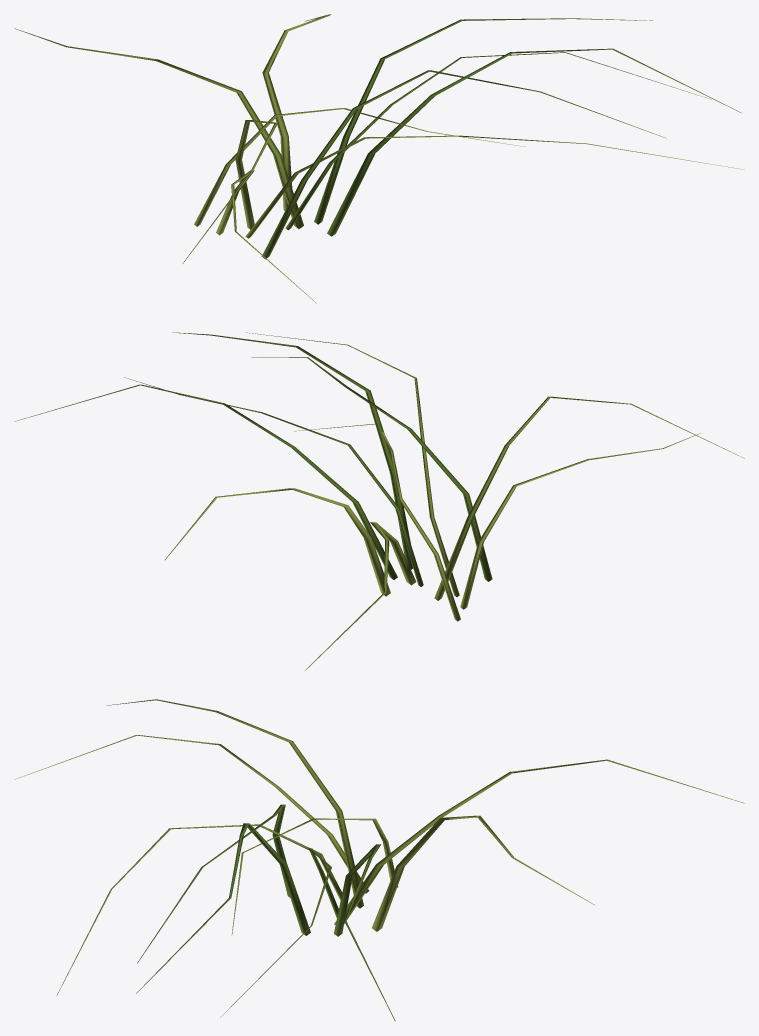
Rendered from filament-0-lod.glb.
3 views of the same model, one above another, from view 1: azimuth 30°, elevation 25°; view 2: azimuth 150°, elevation 25°; view 3: azimuth 270°, elevation 25° (orthographic). The views are drawn at different scales.
Visible parts, largest first — view 1: Filament_0_LOD; view 2: Filament_0_LOD; view 3: Filament_0_LOD.
Boxes of the visible parts, <box> form: Filament_0_LOD: <box>14,14,744,303</box>; Filament_0_LOD: <box>14,332,744,670</box>; Filament_0_LOD: <box>14,699,744,1021</box>.
Bounding box in the file's own units: 1.51 × 0.3968 × 1.52.
